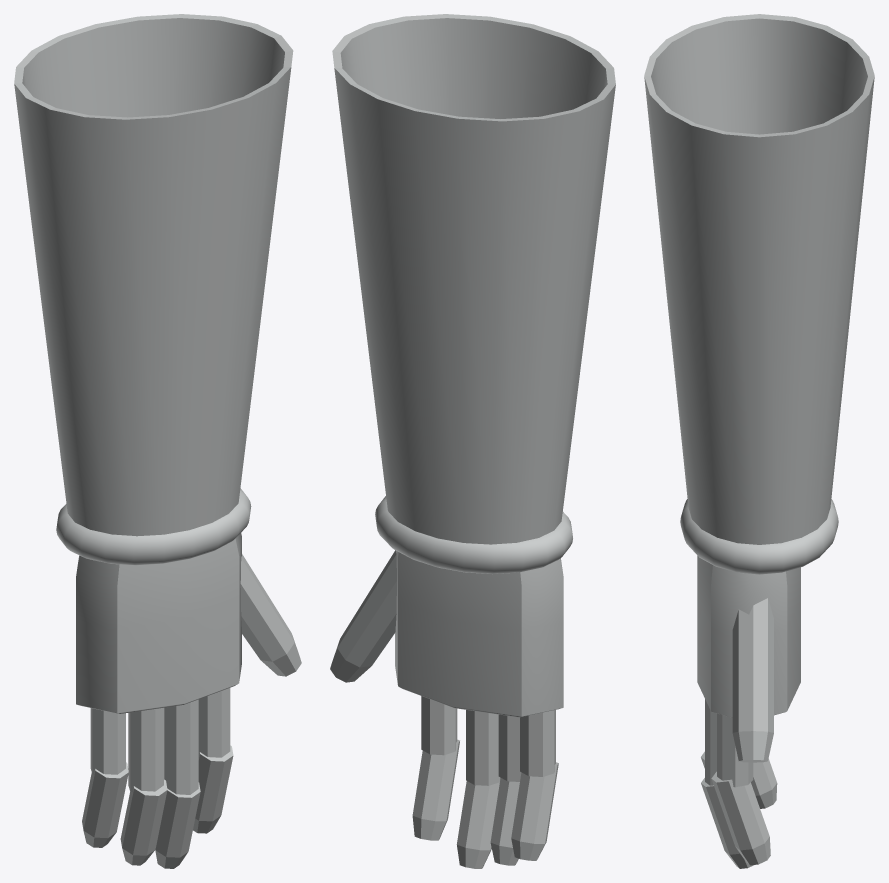
The model's file is Gauntlet.glb.
3 views of the same model, side by side, from view 1: azimuth 30°, elevation 25°; view 2: azimuth 150°, elevation 25°; view 3: azimuth 270°, elevation 25° (orthographic). The views are drawn at different scales.
Visible parts, largest first — view 1: Gauntlet_geo; view 2: Gauntlet_geo; view 3: Gauntlet_geo.
Boxes of the visible parts, x1,y1,x2,y2 form: Gauntlet_geo: [14, 14, 301, 868]; Gauntlet_geo: [330, 14, 615, 868]; Gauntlet_geo: [644, 14, 874, 868].
Size of the model in its own units: 3.63 by 10.2 by 2.71.
Materials: 1 (1 with a texture image).
